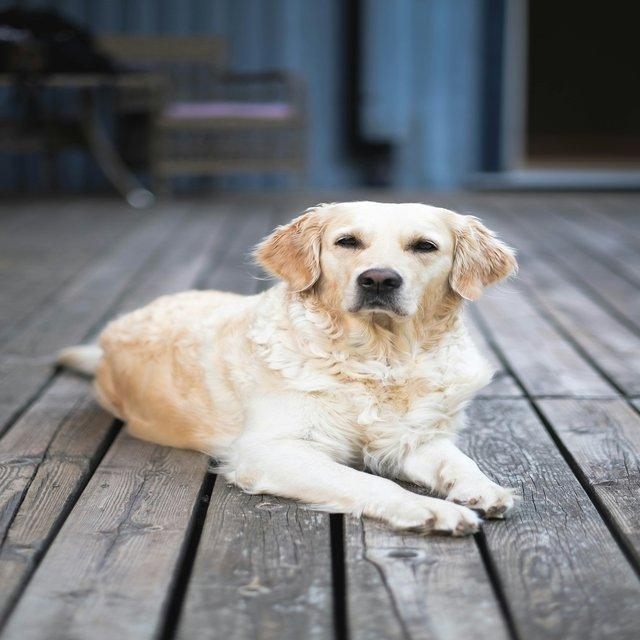retriever: (54, 198, 522, 538)
